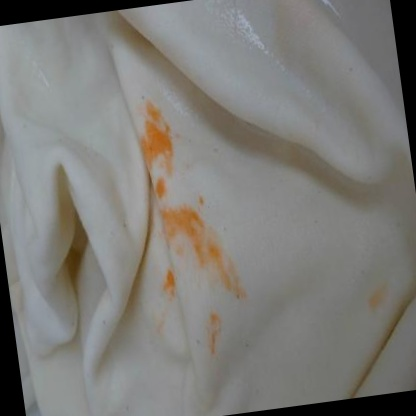kimchi: (152, 184, 248, 308), (118, 93, 192, 196), (191, 304, 233, 361), (152, 267, 184, 335), (355, 275, 392, 321)
